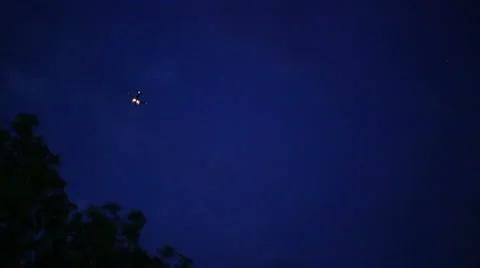Plane: (122, 82, 152, 111)
